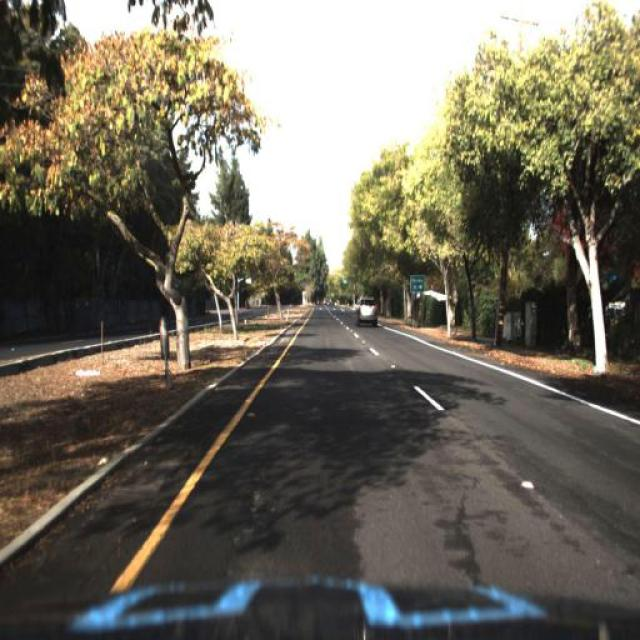car: (354, 290, 380, 329)
